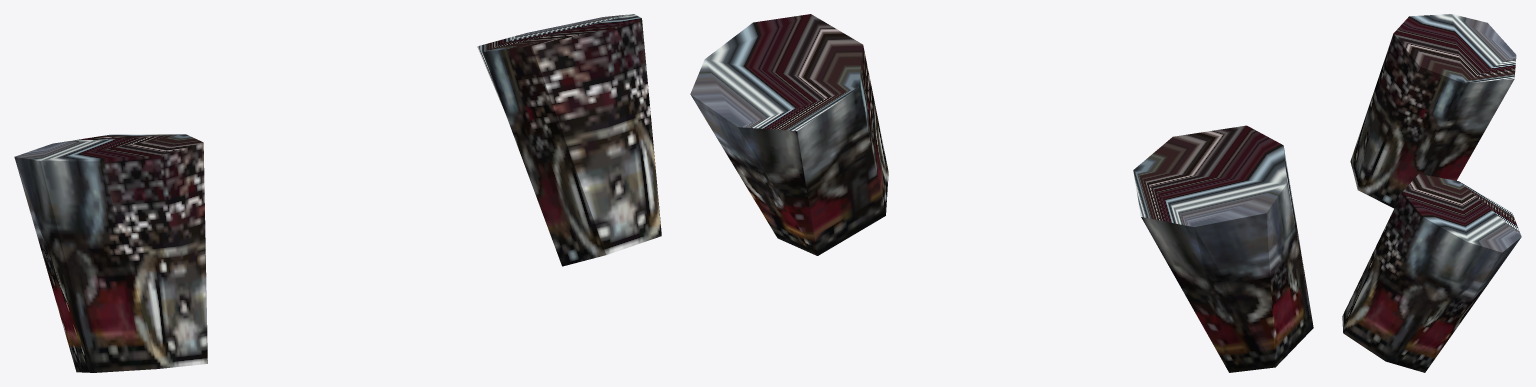
File: Armor_Bloodwyn_Addon.glb
3 views of the same model, side by side, from view 1: azimuth 30°, elevation 25°; view 2: azimuth 150°, elevation 25°; view 3: azimuth 270°, elevation 25° (orthographic). The views are drawn at different scales.
Visible parts, largest first — view 1: Armor_Bloodwyn_Addonzm_Armschutz_SLD; view 2: Armor_Bloodwyn_Addonzm_Armschutz_SLD; view 3: Armor_Bloodwyn_Addonzm_Armschutz_SLD.
Boxes of the visible parts, box(x1,y1,x2,y2) form: Armor_Bloodwyn_Addonzm_Armschutz_SLD: box(14, 14, 661, 372); Armor_Bloodwyn_Addonzm_Armschutz_SLD: box(690, 14, 1313, 372); Armor_Bloodwyn_Addonzm_Armschutz_SLD: box(1342, 14, 1521, 372).
Size of the model in its own units: 0.6656 by 0.2563 by 0.2267.
1 material, 1 textured.
